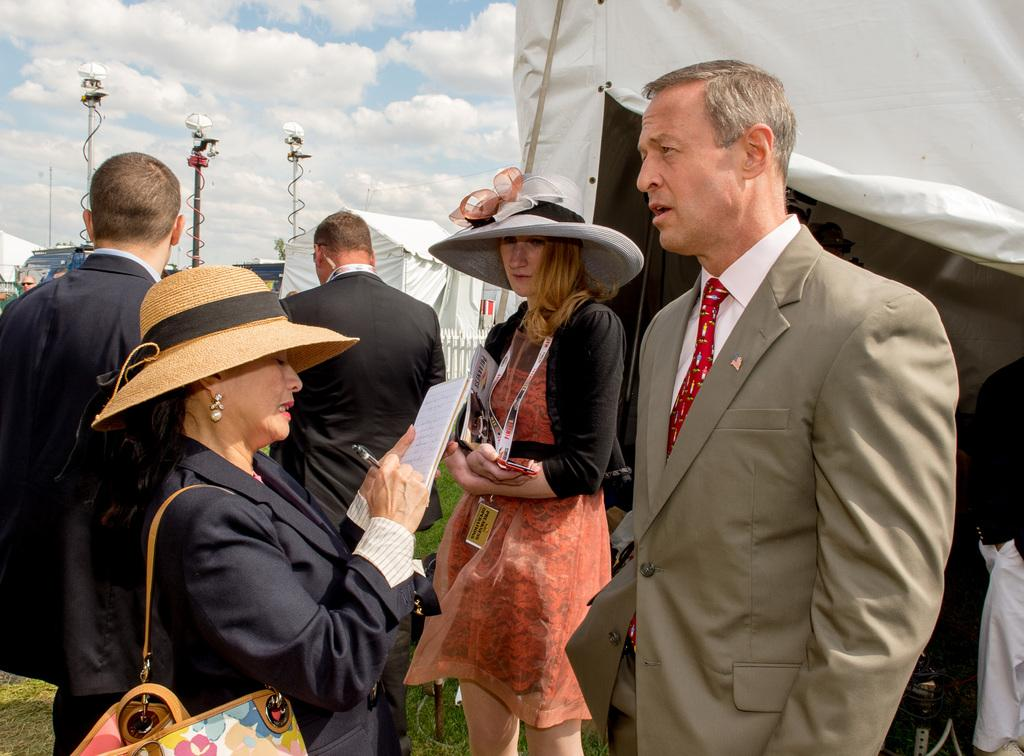Hat: (90, 262, 360, 430), (422, 162, 642, 291)
